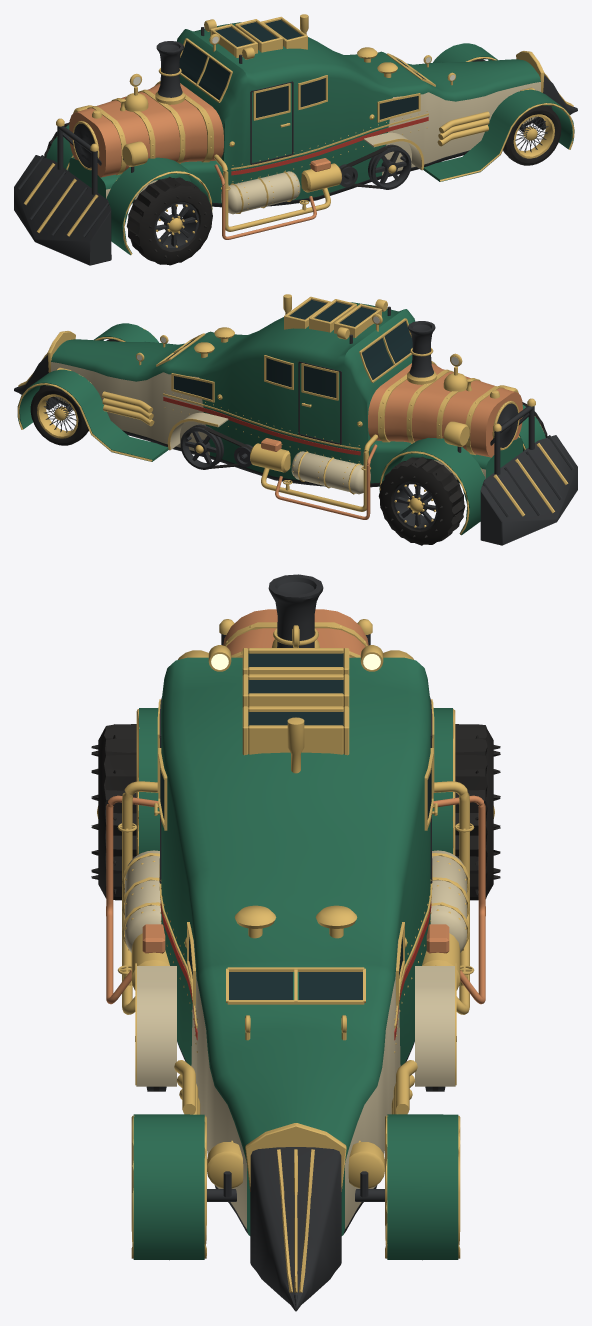
File: boilerfang_blueprint_LOD1.glb
The picture shows the model from 3 angles, top to bottom: view 1: azimuth 30°, elevation 25°; view 2: azimuth 150°, elevation 25°; view 3: azimuth 270°, elevation 25°; orthographic projection. The views are drawn at different scales.
Parts seen in each view (by area): view 1: Body_Hull.001, Detail_Brass, Body_BoilerBarrel.001, Body_PlowTruck.001, Wheel_Truck_Tire_-1.001, Body_FenderSpeedster_-.001, Detail_Iron, Body_FenderTruck_-.001, Body_SideTank_-1.001, Body_Smokestack.001, Prop_MidDrive_Flywheel_-1.001, Wheel_Coupe_Tire_-1.001 (+21 smaller); view 2: Body_Hull.001, Detail_Brass, Body_BoilerBarrel.001, Body_PlowTruck.001, Wheel_Truck_Tire_+1.001, Body_FenderSpeedster_+.001, Detail_Iron, Body_FenderTruck_+.001, Body_SideTank_+1.001, Body_Smokestack.001, Prop_MidDrive_Flywheel_+1.001, Wheel_Coupe_Tire_+1.001 (+21 smaller); view 3: Body_Hull.001, Detail_Brass, Body_ProwSpeedster.001, Body_FenderSpeedster_-.001, Body_FenderSpeedster_+.001, Detail_Copper, Wheel_Truck_Tire_+1.001, Wheel_Truck_Tire_-1.001, Prop_MidDrive_Guard_-1.001, Prop_MidDrive_Guard_+1.001, Body_BoilerBarrel.001, Body_Smokestack.001 (+10 smaller).
Part boxes in pixels (left/top/right/bottom): Body_Hull.001: left=69, top=22, right=540, bottom=207; Detail_Brass: left=24, top=14, right=574, bottom=254; Body_BoilerBarrel.001: left=69, top=83, right=223, bottom=177; Body_PlowTruck.001: left=14, top=155, right=111, bottom=265; Wheel_Truck_Tire_-1.001: left=126, top=177, right=212, bottom=265; Body_FenderSpeedster_-.001: left=423, top=89, right=574, bottom=181; Detail_Iron: left=18, top=27, right=526, bottom=237; Body_FenderTruck_-.001: left=106, top=157, right=212, bottom=255; Body_SideTank_-1.001: left=221, top=171, right=300, bottom=214; Body_Smokestack.001: left=155, top=41, right=185, bottom=104; Prop_MidDrive_Flywheel_-1.001: left=368, top=144, right=411, bottom=189; Wheel_Coupe_Tire_-1.001: left=503, top=105, right=561, bottom=165; Body_Hull.001: left=51, top=302, right=522, bottom=487; Detail_Brass: left=17, top=294, right=568, bottom=534; Body_BoilerBarrel.001: left=368, top=363, right=522, bottom=457; Body_PlowTruck.001: left=480, top=435, right=577, bottom=545; Wheel_Truck_Tire_+1.001: left=378, top=456, right=465, bottom=545; Body_FenderSpeedster_+.001: left=17, top=369, right=168, bottom=461; Detail_Iron: left=65, top=306, right=573, bottom=516; Body_FenderTruck_+.001: left=379, top=437, right=485, bottom=535; Body_SideTank_+1.001: left=291, top=451, right=370, bottom=494; Body_Smokestack.001: left=407, top=321, right=436, bottom=384; Prop_MidDrive_Flywheel_+1.001: left=180, top=424, right=223, bottom=469; Wheel_Coupe_Tire_+1.001: left=30, top=385, right=88, bottom=445; Body_Hull.001: left=161, top=657, right=430, bottom=1235; Detail_Brass: left=117, top=619, right=474, bottom=1292; Body_ProwSpeedster.001: left=250, top=1147, right=341, bottom=1311; Body_FenderSpeedster_-.001: left=133, top=1114, right=204, bottom=1259; Body_FenderSpeedster_+.001: left=387, top=1114, right=458, bottom=1259; Detail_Copper: left=106, top=795, right=485, bottom=1004; Wheel_Truck_Tire_+1.001: left=455, top=724, right=500, bottom=900; Wheel_Truck_Tire_-1.001: left=91, top=724, right=136, bottom=900; Prop_MidDrive_Guard_-1.001: left=136, top=966, right=176, bottom=1086; Prop_MidDrive_Guard_+1.001: left=415, top=966, right=455, bottom=1086; Body_BoilerBarrel.001: left=223, top=609, right=368, bottom=657; Body_Smokestack.001: left=268, top=574, right=323, bottom=647.
Bounding box in the file's own units: 4.95 × 1.53 × 1.61.
